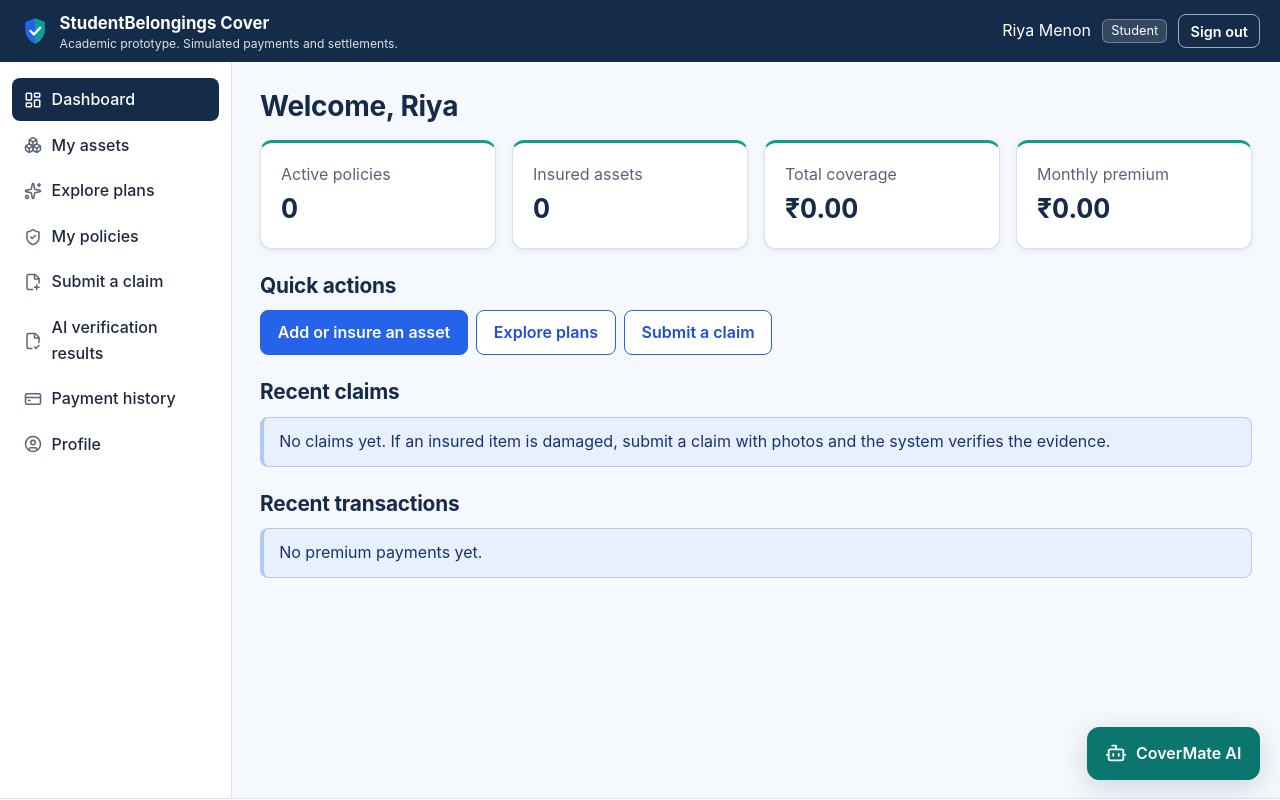
Test: CoverMate AI widget › shows the exact unavailable message and does not invent an answer when the provider is down
Step 1. Click the button with aria-label "Open CoverMate AI chat" → [1173, 753], box [1087,727,1260,780]
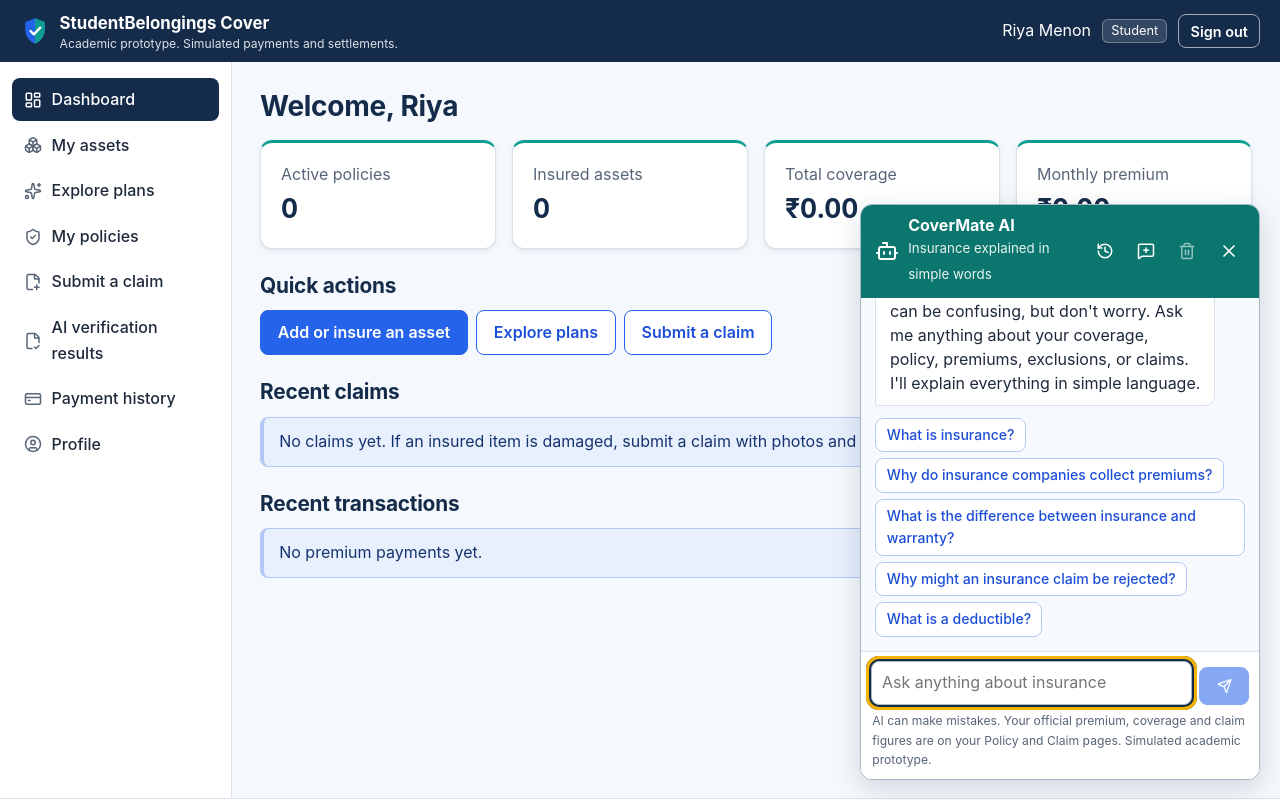
Step 2. Type "hello" into the text box named "Your question" → [1031, 683], box [871,661,1192,705]
Then press Enter
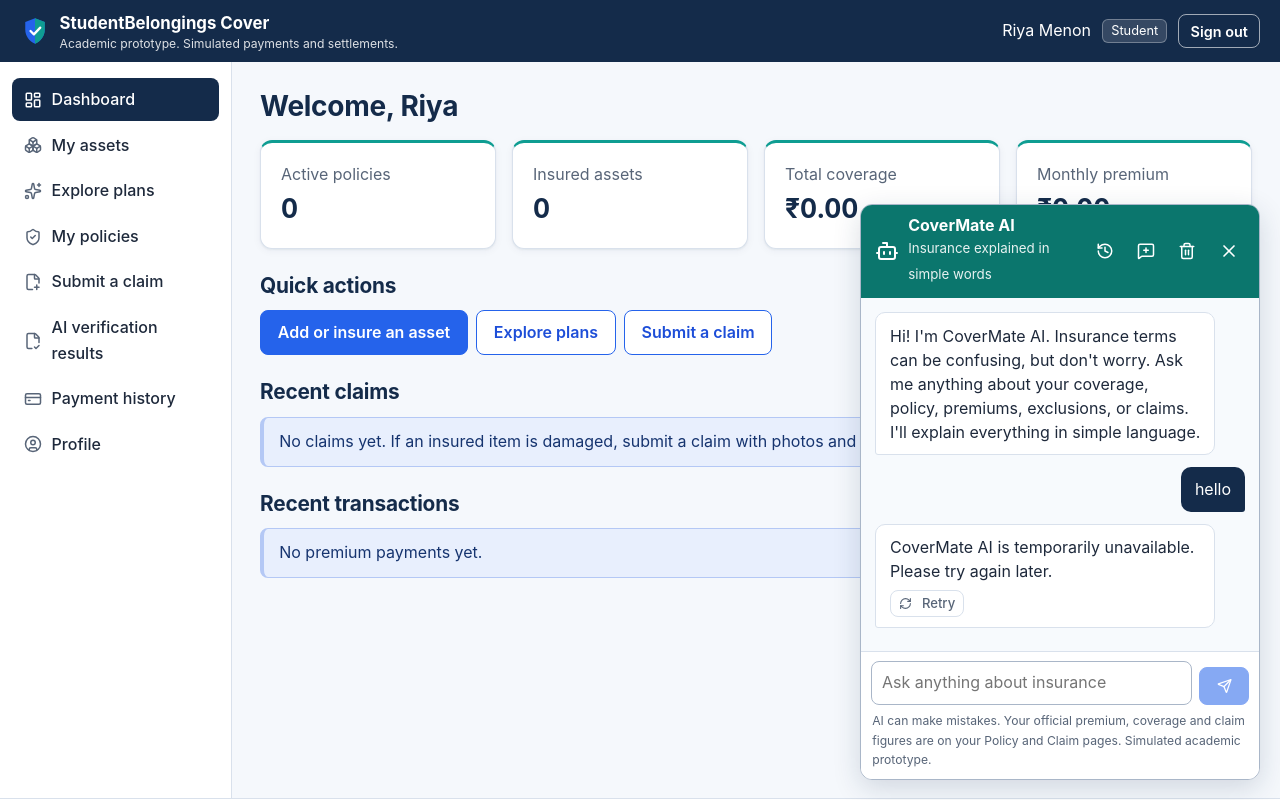
Check: the message shows "CoverMate AI is temporarily unavailable. Please try again later.", box [890,537,1199,581]
